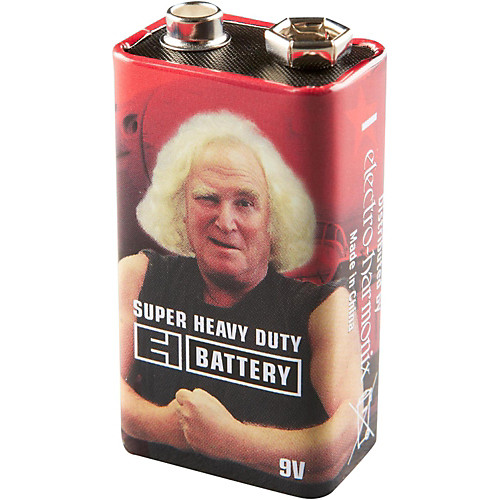9V: (103, 5, 398, 497)
